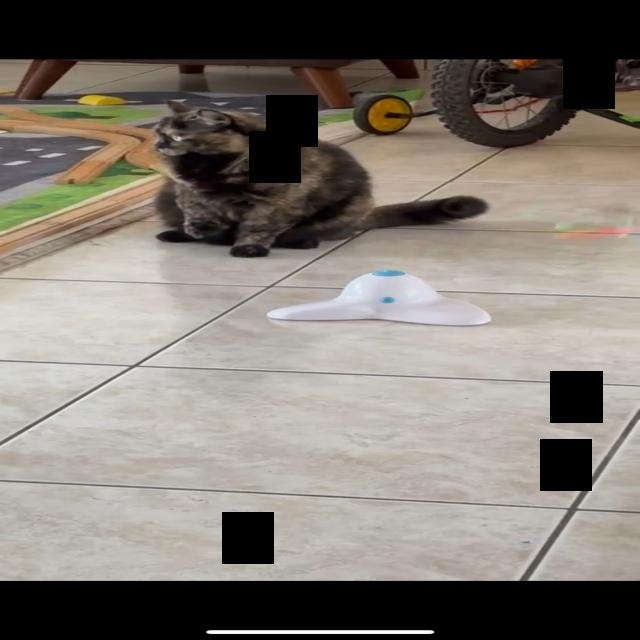authorized: (149, 99, 489, 258)
